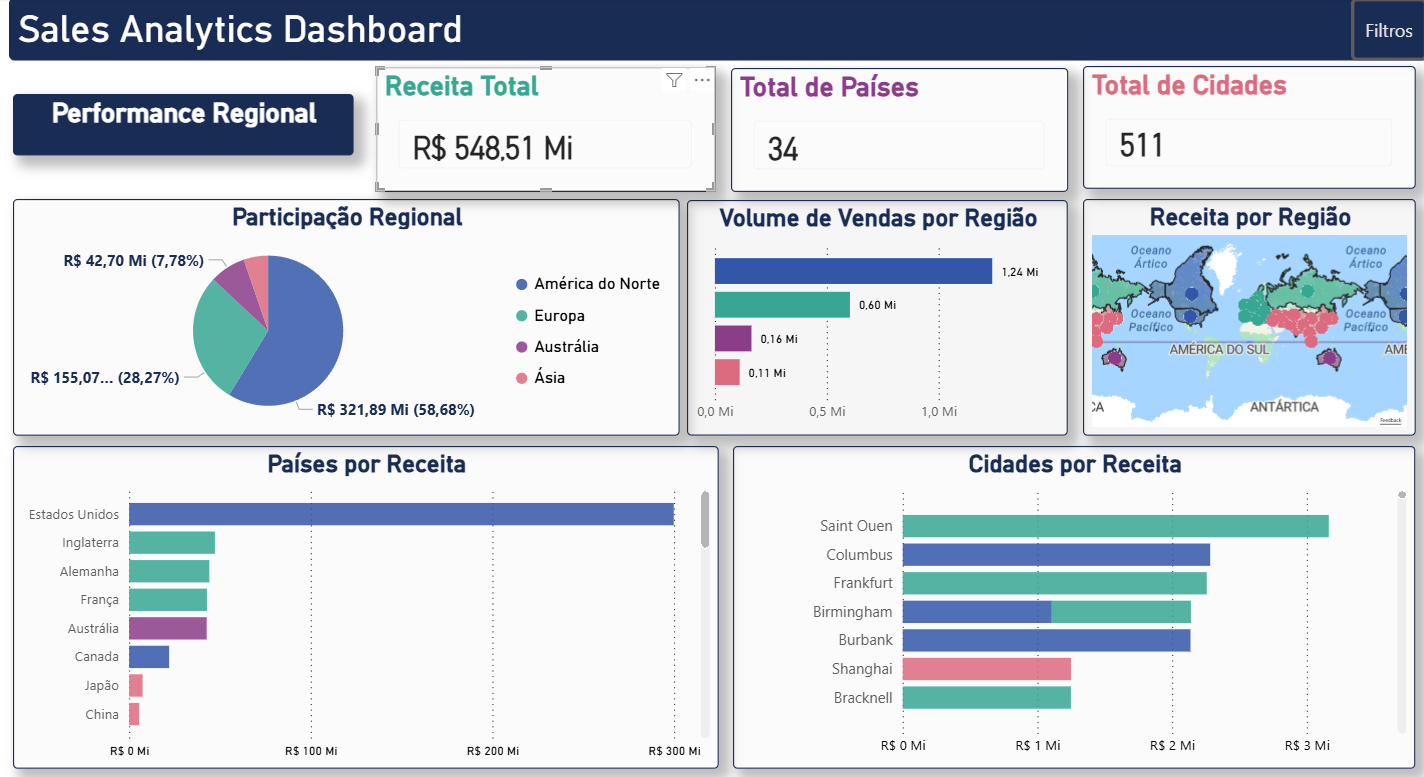

What the dashboard file says about the page in this screenshot:
{"tool":"powerbi","page":{"name":"Performance Regional","canvas":[1280,720],"ordinal":2},"visuals":[{"type":"textbox","box":[10,0,1270,56.4],"z":0},{"type":"cardVisual","title":"Total de Cidades","fields":{"Data":["Cadastro Lojas.Qtd Cidades"]},"box":[975,61,298.1,111.2],"z":2000},{"type":"kpi","title":"Performance Regional","fields":{"Indicator":["Base de Vendas.Fat total"]},"box":[13.2,85.7,304.6,54.9],"z":4000},{"type":"azureMap","title":"Receita por Região","fields":{"Y":["Base de Vendas.Receita Total Geral"],"Category":["Cadastro Lojas.Cidade"],"Series":["Cadastro Lojas.Continente"]},"box":[966.1,179.1,307,212.5],"z":7000},{"type":"pieChart","title":"Participação Regional","fields":{"Category":["Cadastro Lojas.Continente","Cadastro Lojas.País"],"Y":["Base de Vendas.Fat total"]},"box":[13.2,179.7,597,211.9],"z":10000},{"type":"barChart","title":"Países por Receita","fields":{"Y":["Base de Vendas.Fat total"],"Category":["Cadastro Lojas.País"]},"box":[13.2,401.1,632,289.5],"z":12000},{"type":"cardVisual","title":"Total de Países","fields":{"Data":["Cadastro Lojas.Qtd Países"]},"box":[656.2,61,302,111.2],"z":13000},{"type":"barChart","title":"Cidades por Receita","fields":{"Y":["Base de Vendas.Fat total"],"Category":["Cadastro Lojas.Cidade"],"Series":["Cadastro Lojas.Continente"]},"box":[661.2,401.4,612,289.3],"z":14000},{"type":"barChart","title":"Volume de Vendas por Região","fields":{"Y":["Sum(Base de Vendas.Qtd. Vendida)"],"Category":["Cadastro Lojas.Continente"]},"box":[616.9,180,341.4,210.5],"z":15000},{"type":"actionButton","title":"Filtros","box":[1211.8,0,68.2,56.4],"z":17000},{"type":"cardVisual","title":"Receita Total","fields":{"Data":["Base de Vendas.Fat total"]},"box":[338.7,61.5,303.7,111.6],"z":18000}]}

Visuals, with their boxes on the page's 1280x720 design canvas (x1, y1, x2, y2). These are canvas units, not pixel positions in the 1424x777 screenshot, which may show the page scaled, cropped or inside an application window:
textbox: (left=10, top=0, right=1280, bottom=56)
"Total de Cidades" cardVisual: (left=975, top=61, right=1273, bottom=172)
"Performance Regional" kpi: (left=13, top=86, right=318, bottom=141)
"Receita por Região" azureMap: (left=966, top=179, right=1273, bottom=392)
"Participação Regional" pieChart: (left=13, top=180, right=610, bottom=392)
"Países por Receita" barChart: (left=13, top=401, right=645, bottom=691)
"Total de Países" cardVisual: (left=656, top=61, right=958, bottom=172)
"Cidades por Receita" barChart: (left=661, top=401, right=1273, bottom=691)
"Volume de Vendas por Região" barChart: (left=617, top=180, right=958, bottom=390)
"Filtros" actionButton: (left=1212, top=0, right=1280, bottom=56)
"Receita Total" cardVisual: (left=339, top=62, right=642, bottom=173)
